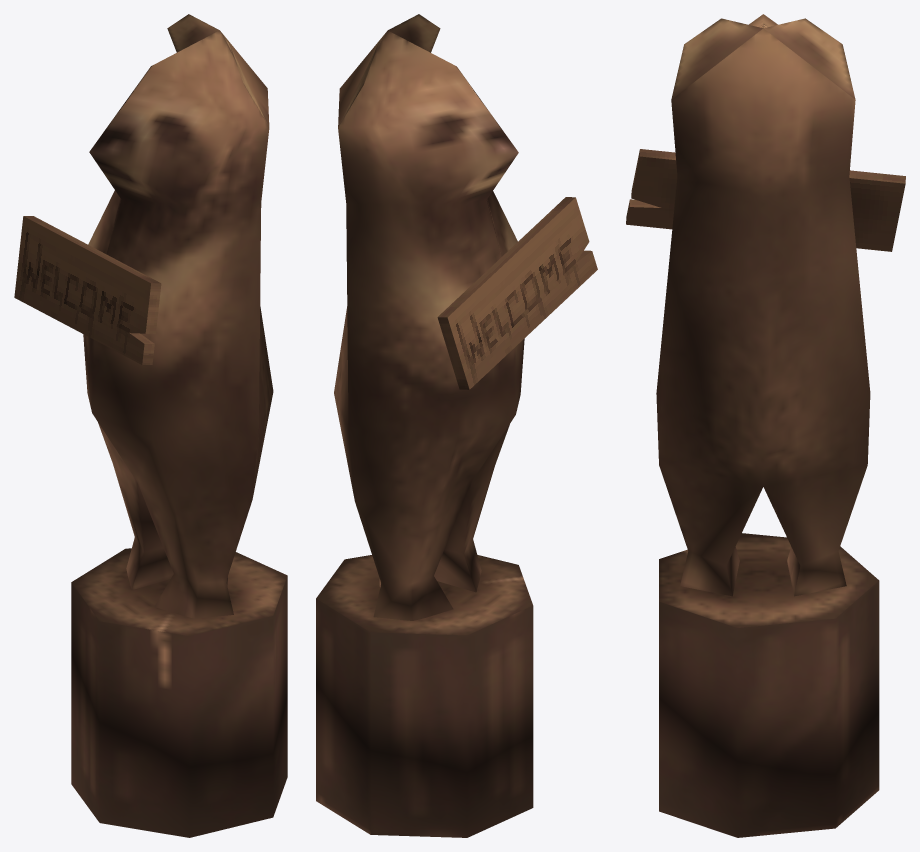
Rendered from Welcome Bear.glb.
3 renders of one model, left to right at view 1: azimuth 30°, elevation 25°; view 2: azimuth 150°, elevation 25°; view 3: azimuth 270°, elevation 25°, orthographic. The views are drawn at different scales.
Parts seen in each view (by area): view 1: Bear; view 2: Bear; view 3: Bear.
Boxes of the visible parts, bbox=[...] form: Bear: bbox=[14, 14, 287, 837]; Bear: bbox=[316, 14, 597, 837]; Bear: bbox=[626, 14, 905, 837].
Size of the model in its own units: 1.31 by 4.77 by 1.54.
2 materials, 2 textured.
